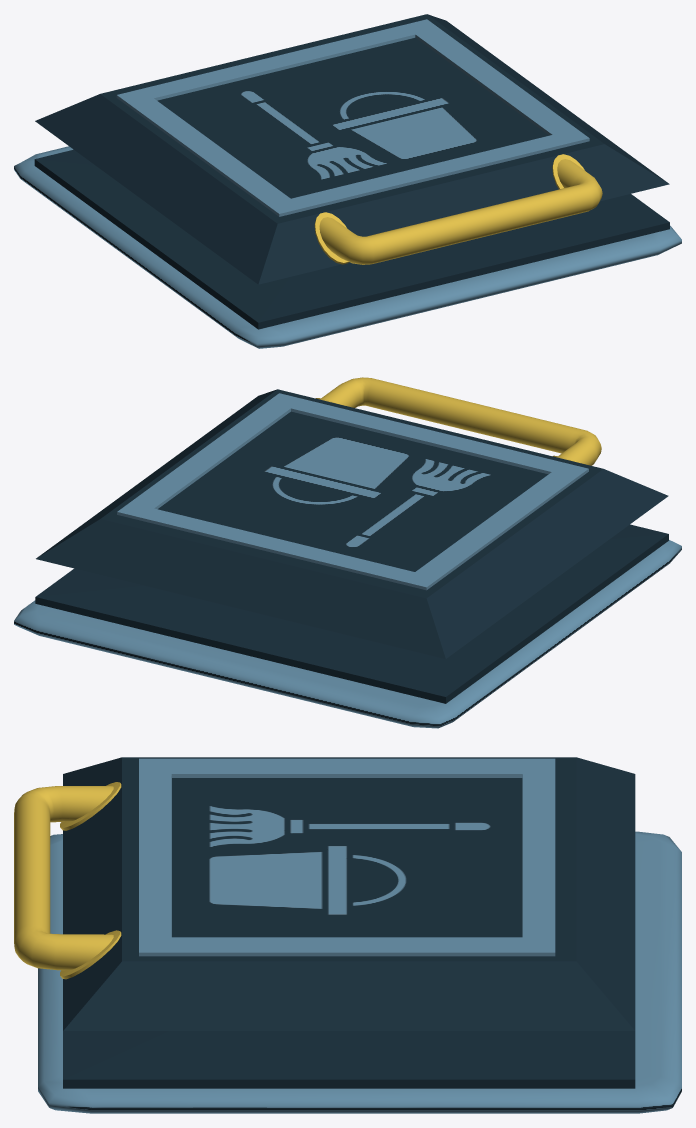
File: Mop.fbx
The picture shows the model from 3 angles, top to bottom: view 1: azimuth 30°, elevation 25°; view 2: azimuth 150°, elevation 25°; view 3: azimuth 270°, elevation 25°; orthographic projection. The views are drawn at different scales.
Parts seen in each view (by area): view 1: MopGrip, LED, MopHead, Handle; view 2: MopGrip, MopHead, LED, Handle; view 3: MopGrip, MopHead, LED, Handle.
Part boxes in pixels (x1,y1,x2,y2): MopGrip: (34, 14, 669, 329); LED: (116, 19, 589, 216); MopHead: (14, 146, 681, 348); Handle: (314, 154, 602, 264); MopGrip: (35, 389, 668, 703); MopHead: (14, 540, 681, 728); LED: (117, 393, 588, 590); Handle: (315, 377, 601, 465); MopGrip: (63, 757, 635, 1088); MopHead: (38, 831, 681, 1113); LED: (139, 758, 555, 956); Handle: (14, 782, 121, 979).
Bounding box in the file's own units: 0.5639 × 0.1252 × 0.585.
